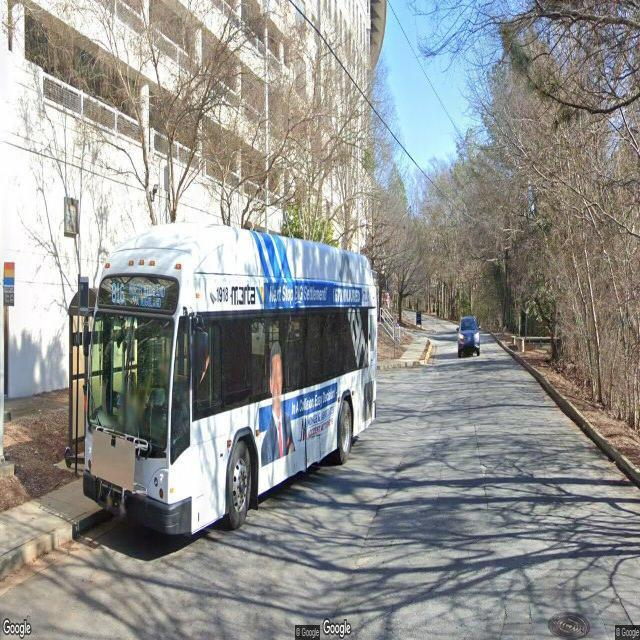shelter: (66, 282, 176, 472)
